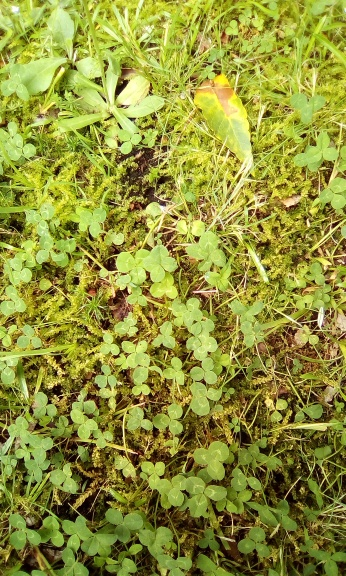4leaf: (185, 230, 226, 271), (142, 245, 177, 282), (185, 329, 218, 361)
